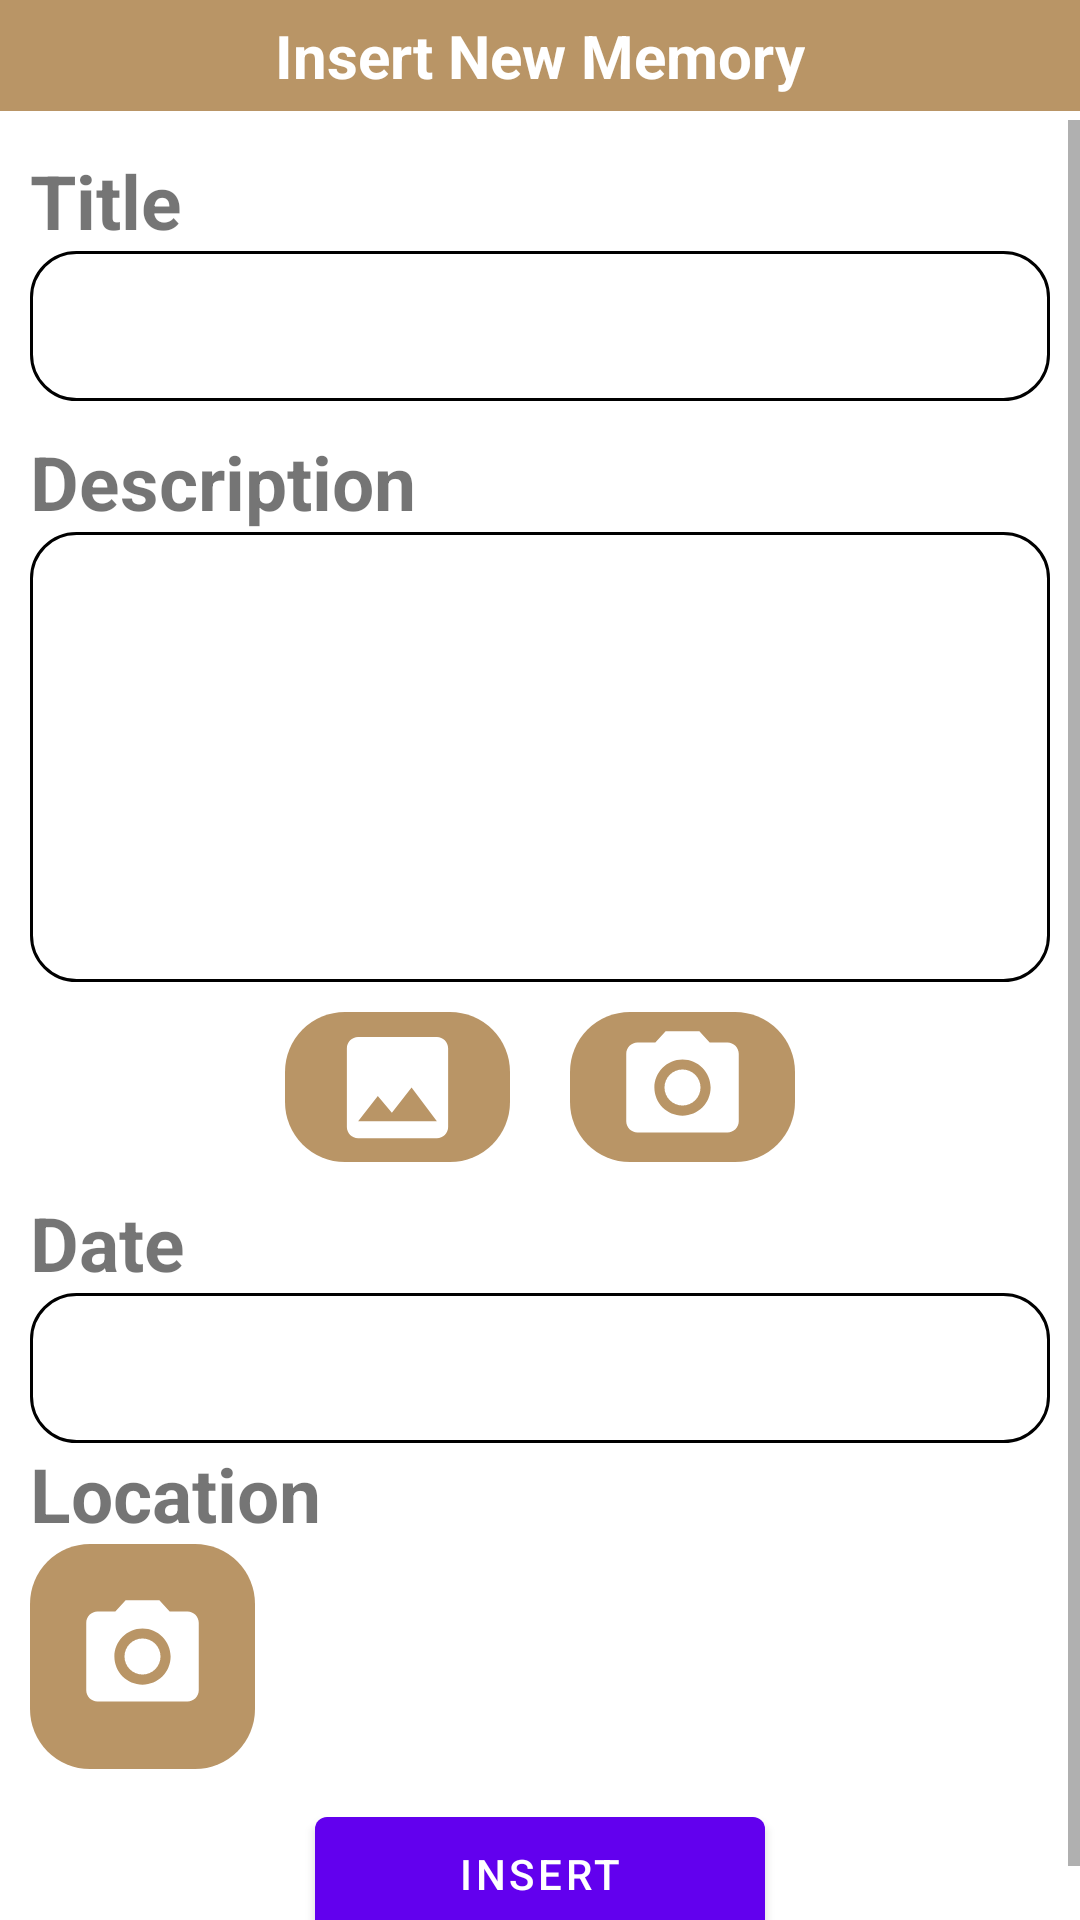

Icon click points for this 1080px x 1920px phone screenshot, format [x,y]:
camera: [682,1087], [142,1656]
insert photo: [397,1087]
